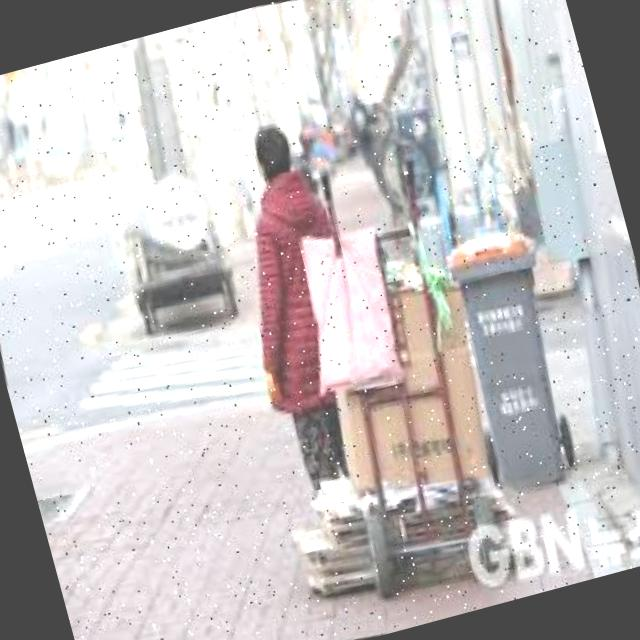Person: (193, 111, 410, 504)
